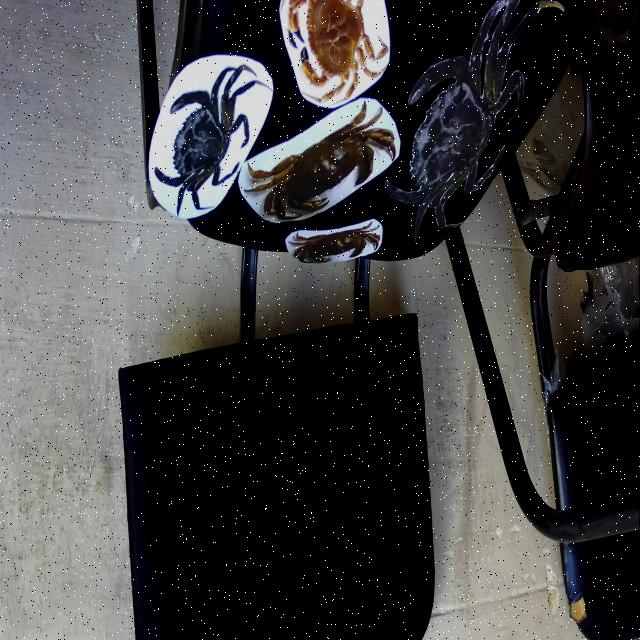European_Green_Crab: (371, 0, 566, 287), (143, 9, 273, 252)
